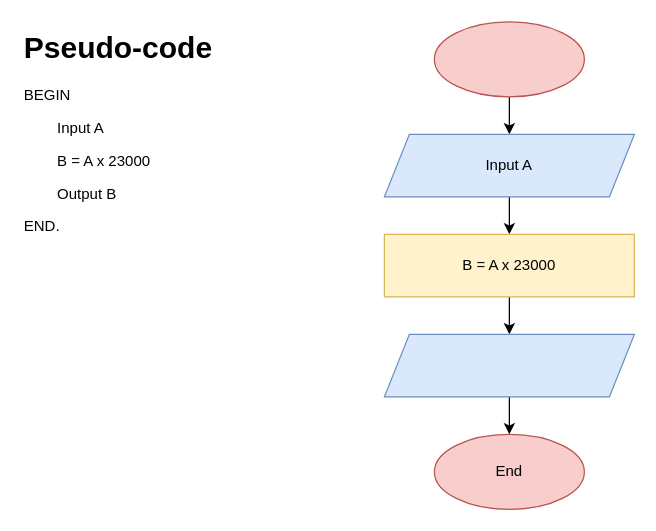
Image size: 656x531. Some labels were removed from this diagram. Here are the shapes that lost their labels. From the top down, the centre of each, then its label:
point 508,59: Begin
point 508,365: Output B
